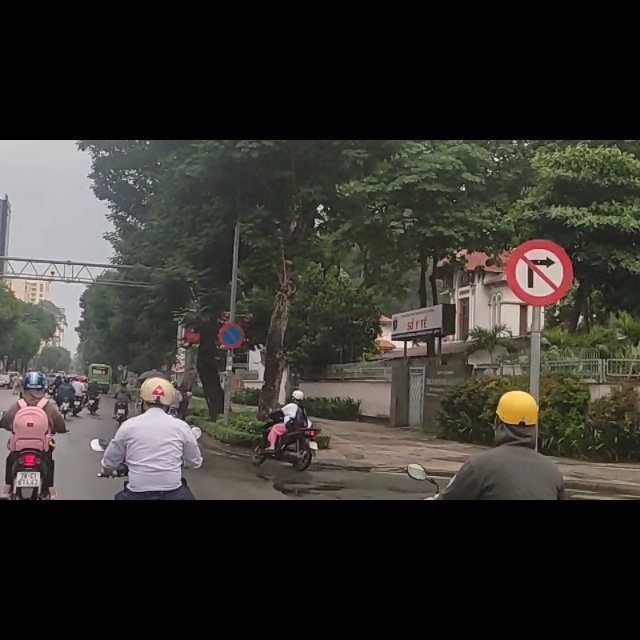bien_cam: (505, 174, 575, 293), (218, 324, 244, 371)
